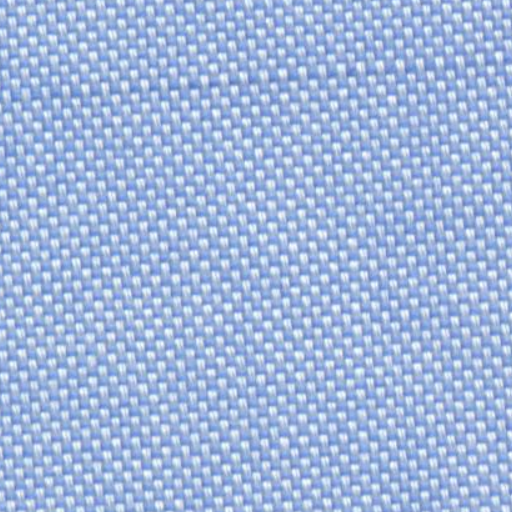TuoSha: (24, 38, 490, 130)
